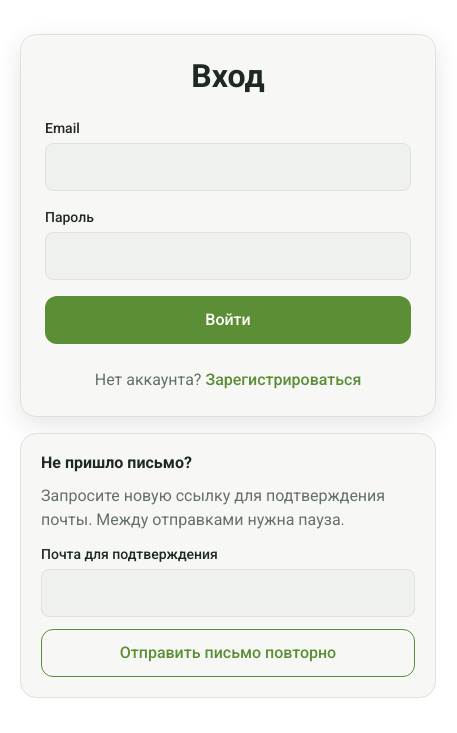
Scenario: AuthProvider, HTTP и формы › показывает invalid_credentials без ложного успеха
In the field labelled "Email": (228, 167) [45,143,411,191], type "user@example.test"
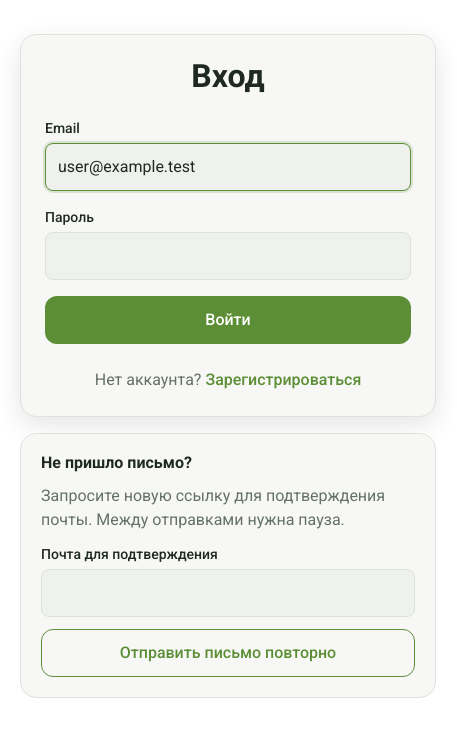
In the password field labelled "Пароль": (228, 256) [45,232,411,280], type "password123"
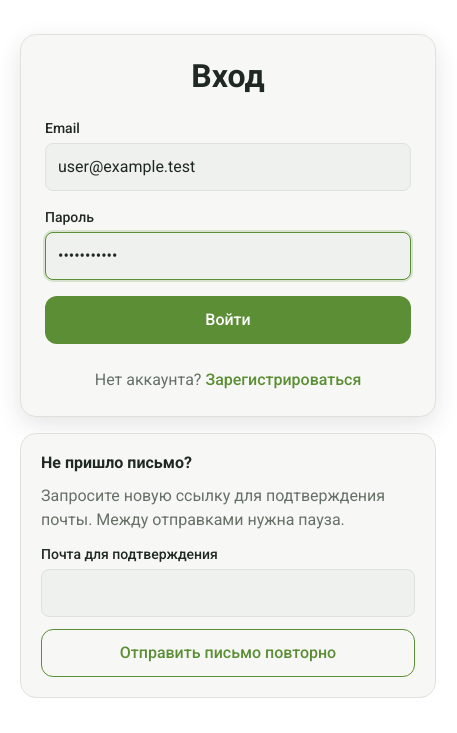
Click the button "Войти": (228, 320) [45,296,411,344]
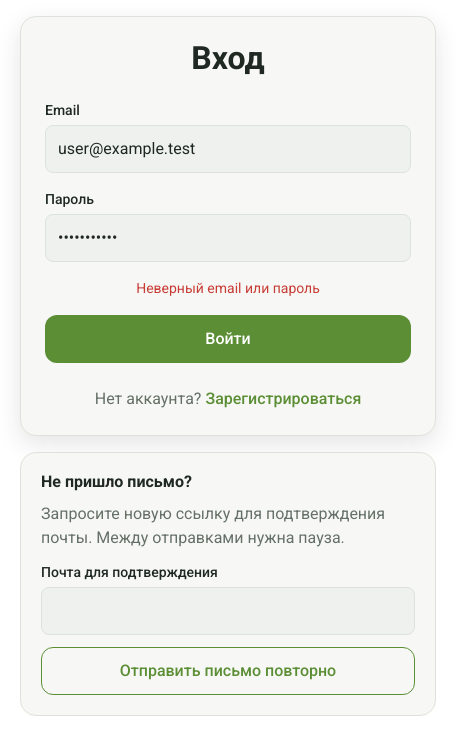
Expected: the message reads "Неверный email или пароль", [136,280,320,296]
